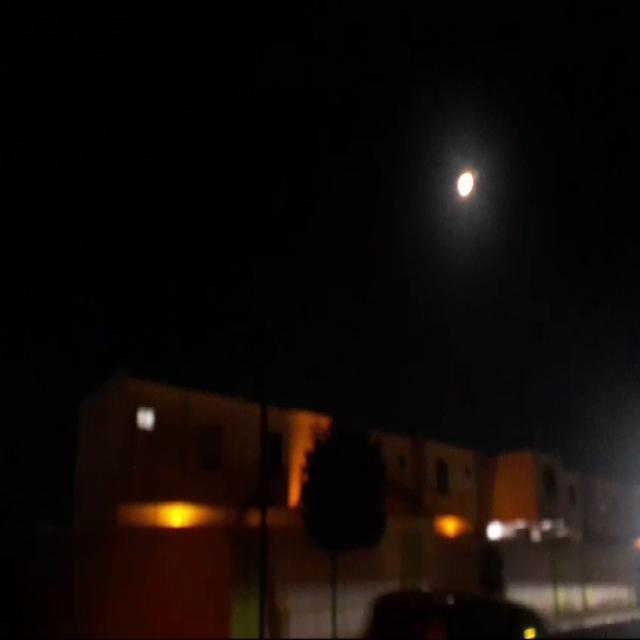moon: (457, 167, 476, 201)
